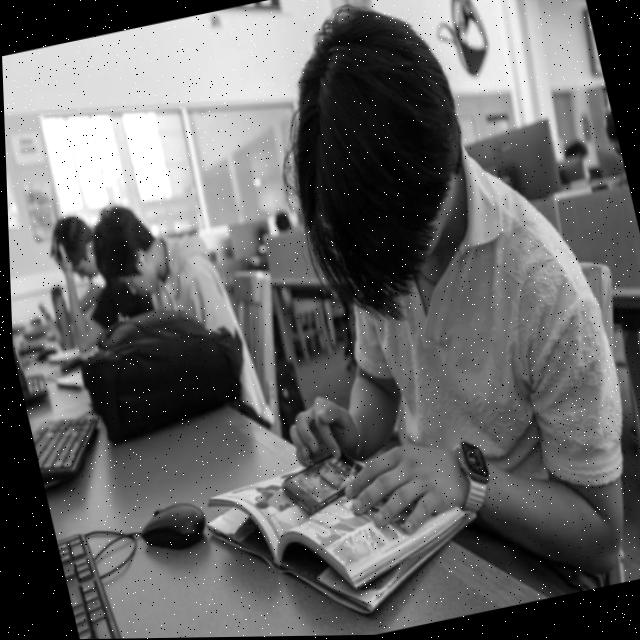phone: (267, 442, 374, 527)
